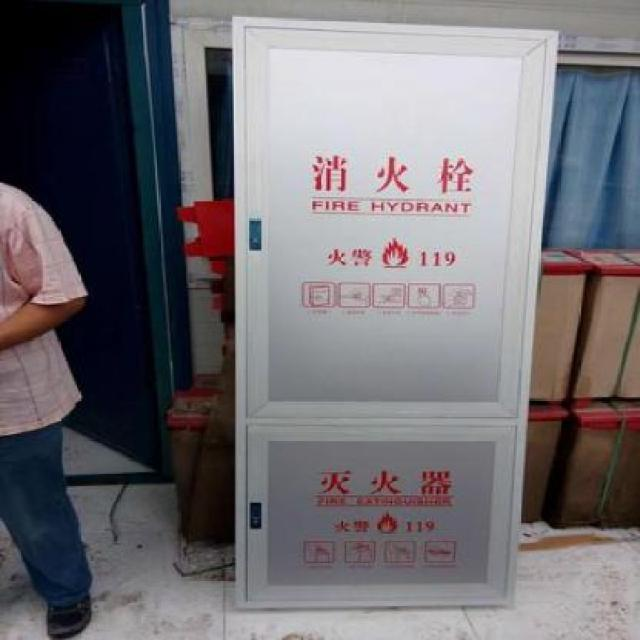firehydrant: (229, 12, 563, 614)
